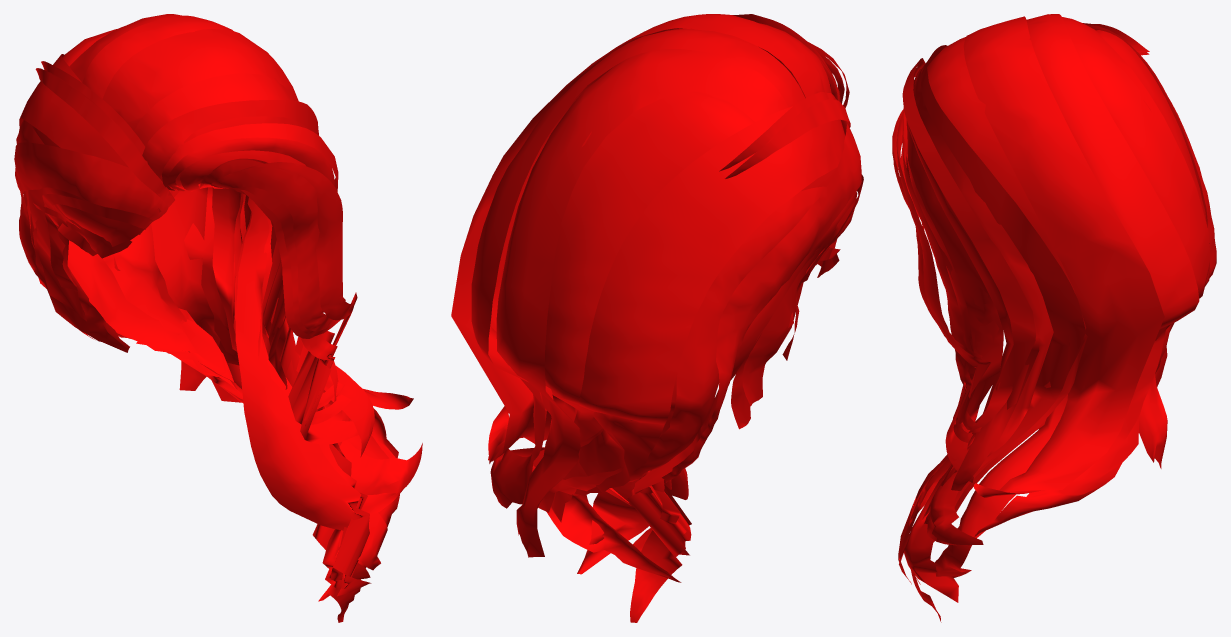
The model's file is elvs_adrienne_hair_F.glb.
3 views of the same model, side by side, from view 1: azimuth 30°, elevation 25°; view 2: azimuth 150°, elevation 25°; view 3: azimuth 270°, elevation 25° (orthographic). The views are drawn at different scales.
Size of the model in its own units: 0.3038 by 0.484 by 0.2634.
Materials: 1 (1 with a texture image).
